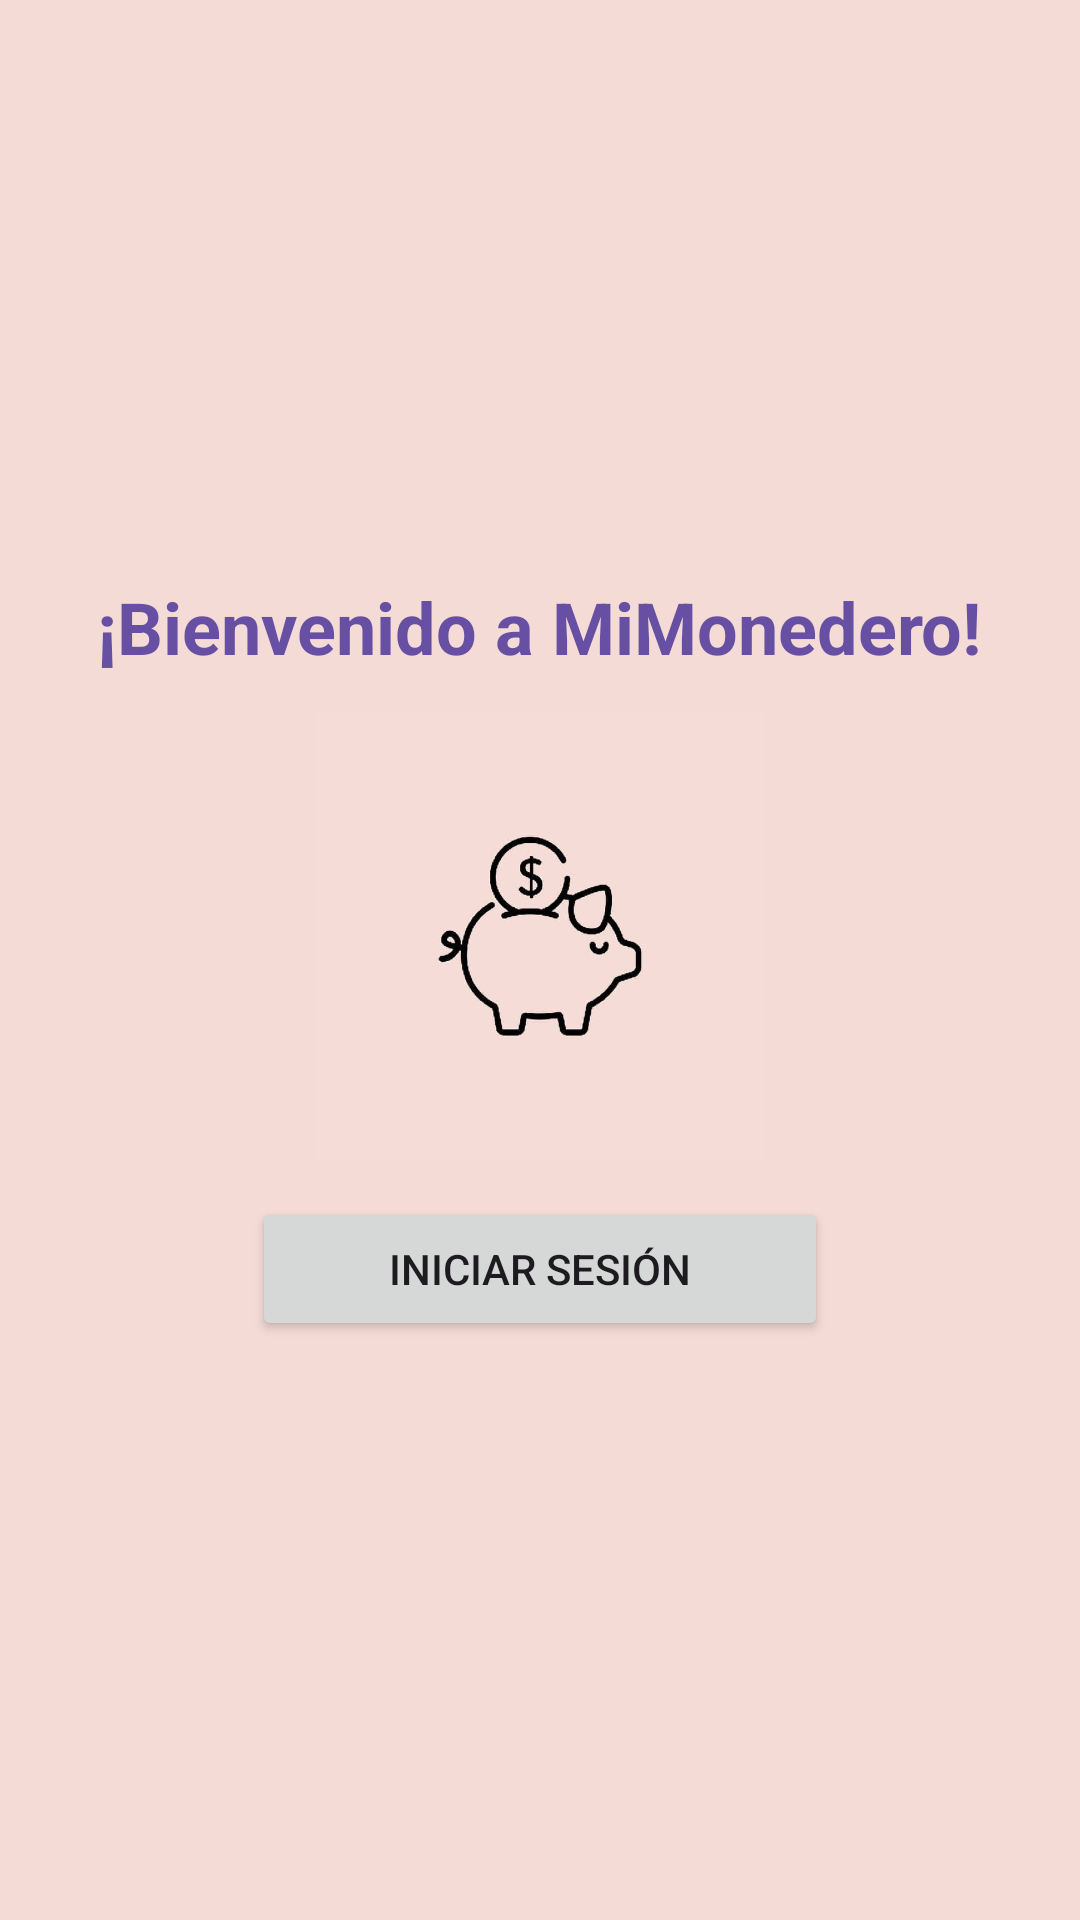

Locate icon controls on the screen. Image size 1080*1920, boxes as (x1, y1, x2, y2).
Imagen de cerdito: (438, 836, 642, 1036)
